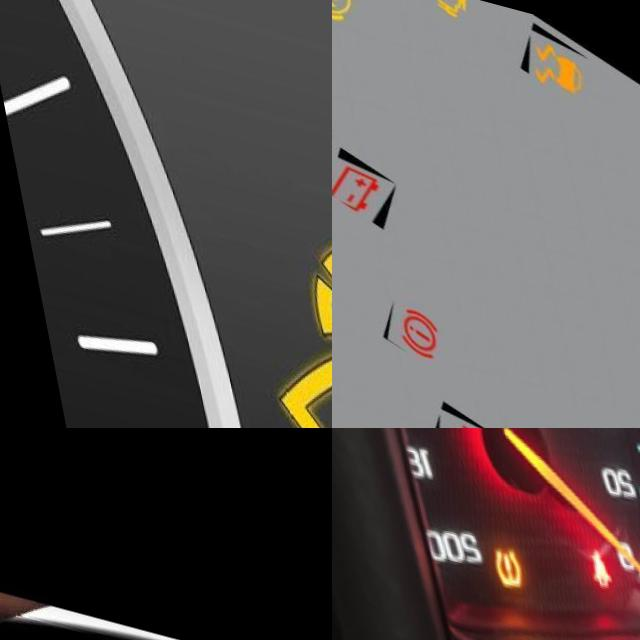Seat Belt: (568, 527, 599, 580)
Washer Fluid: (229, 204, 332, 428)
